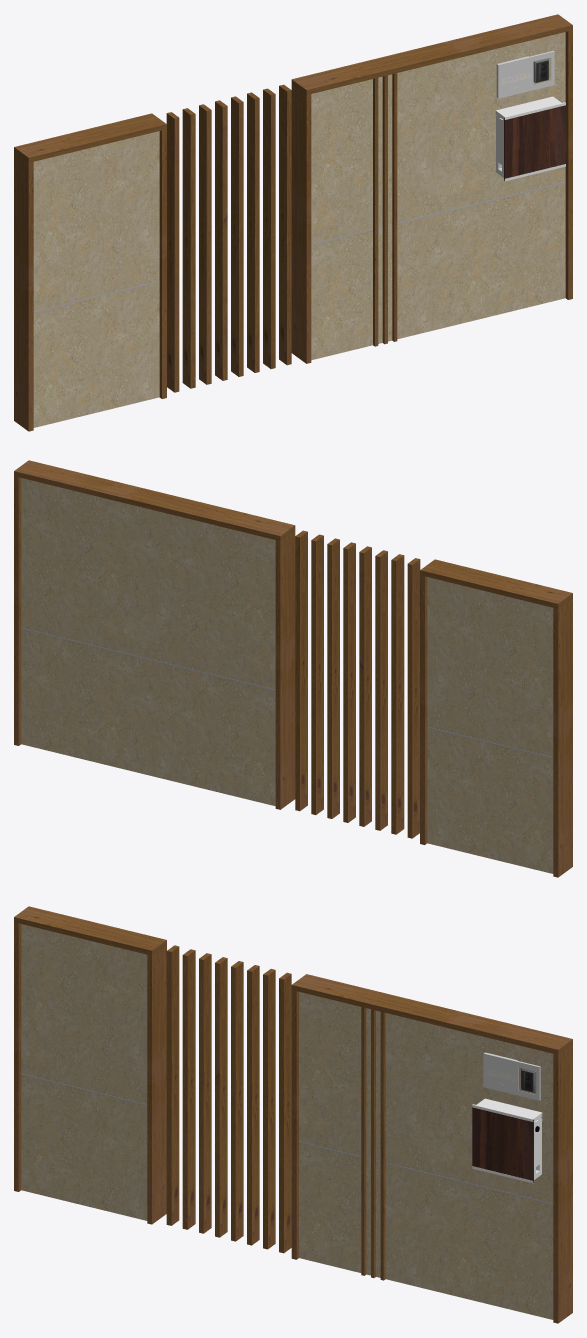
Rendered from ab53_naturalpine-travartine.fbx.
3 views of the same model, one above another, from view 1: azimuth 30°, elevation 25°; view 2: azimuth 150°, elevation 25°; view 3: azimuth 330°, elevation 25° (orthographic).
Visible parts, largest first — view 1: ab53_naturalpine-travartine; view 2: ab53_naturalpine-travartine; view 3: ab53_naturalpine-travartine.
Boxes of the visible parts, x1,y1,x2,y2 form: ab53_naturalpine-travartine: (14,14,572,431); ab53_naturalpine-travartine: (14,460,572,877); ab53_naturalpine-travartine: (14,906,572,1323).
Bounding box in the file's own units: 339 × 163 × 25.6.
Materials: 14 (6 with a texture image).
